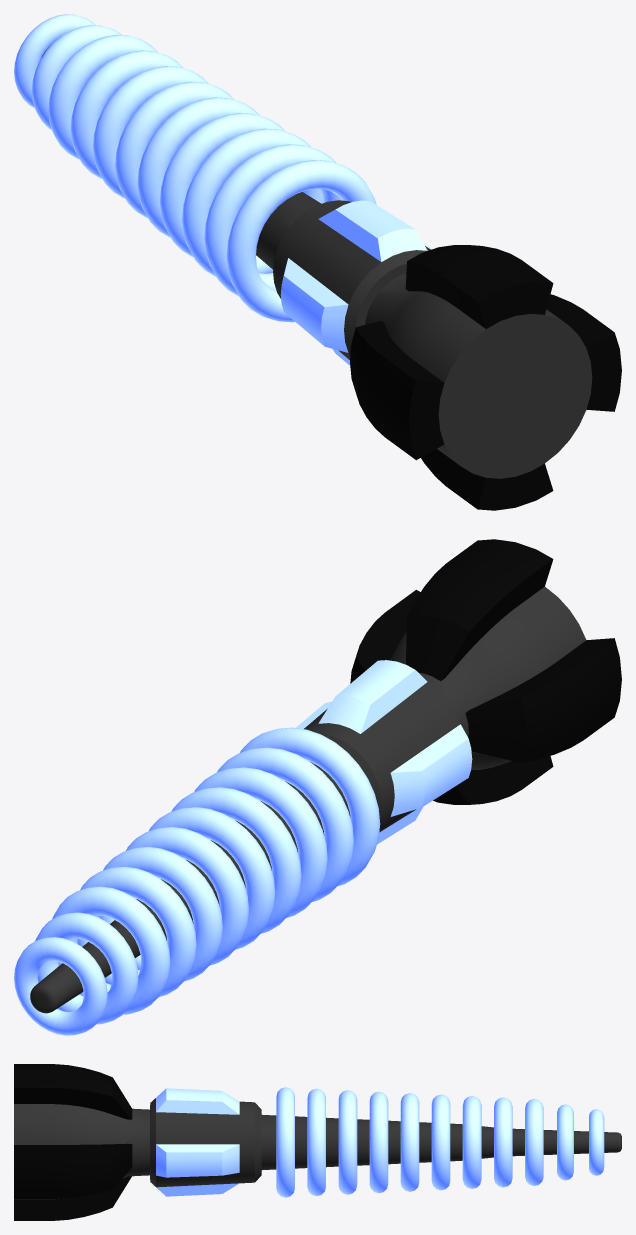
File: BeaconTower1.fbx
3 renders of one model, top to bottom at view 1: azimuth 30°, elevation 25°; view 2: azimuth 150°, elevation 25°; view 3: azimuth 270°, elevation 25°, orthographic. The views are drawn at different scales.
Visible parts, largest first — view 1: Cylinder, Cylinder.004, Cylinder.003, Cylinder.005, Cylinder_Curve.001, Cylinder_Curve.002, Cylinder_Curve.003, Cylinder_Curve.004, Cylinder_Curve.005, Cylinder_Curve.006, Cylinder_Curve.007, Cylinder_Curve.008 (+3 smaller); view 2: Cylinder, Cylinder.004, Cylinder.003, Cylinder.005, Cylinder_Curve.001, Cylinder_Curve.002, Cylinder_Curve.003, Cylinder_Curve.011, Cylinder_Curve.004, Cylinder_Curve.009, Cylinder_Curve.005, Cylinder_Curve.006 (+3 smaller); view 3: Cylinder, Cylinder.004, Cylinder.003, Cylinder.005, Cylinder_Curve.001, Cylinder_Curve.003, Cylinder_Curve.002, Cylinder_Curve.004, Cylinder_Curve.005, Cylinder_Curve.006, Cylinder_Curve.007, Cylinder_Curve.008 (+3 smaller).
Part boxes in pixels (bbox=[...]): Cylinder: bbox=[41, 46, 592, 478]; Cylinder.004: bbox=[405, 245, 553, 510]; Cylinder.003: bbox=[350, 294, 621, 460]; Cylinder.005: bbox=[280, 200, 432, 365]; Cylinder_Curve.001: bbox=[226, 160, 376, 322]; Cylinder_Curve.002: bbox=[204, 144, 342, 296]; Cylinder_Curve.003: bbox=[182, 128, 324, 276]; Cylinder_Curve.004: bbox=[159, 113, 285, 257]; Cylinder_Curve.005: bbox=[137, 97, 259, 237]; Cylinder_Curve.006: bbox=[115, 81, 234, 218]; Cylinder_Curve.007: bbox=[93, 66, 208, 198]; Cylinder_Curve.008: bbox=[70, 50, 182, 178]; Cylinder: bbox=[30, 586, 586, 1013]; Cylinder.004: bbox=[406, 539, 553, 804]; Cylinder.003: bbox=[350, 589, 621, 762]; Cylinder.005: bbox=[296, 660, 472, 844]; Cylinder_Curve.001: bbox=[240, 727, 380, 886]; Cylinder_Curve.002: bbox=[217, 747, 353, 901]; Cylinder_Curve.003: bbox=[194, 767, 327, 917]; Cylinder_Curve.011: bbox=[14, 937, 107, 1035]; Cylinder_Curve.004: bbox=[171, 787, 301, 933]; Cylinder_Curve.009: bbox=[52, 886, 170, 1014]; Cylinder_Curve.005: bbox=[149, 807, 275, 949]; Cylinder_Curve.006: bbox=[126, 827, 248, 965]; Cylinder: bbox=[14, 1098, 621, 1199]; Cylinder.004: bbox=[14, 1064, 132, 1220]; Cylinder.003: bbox=[14, 1143, 132, 1198]; Cylinder.005: bbox=[156, 1088, 239, 1196]; Cylinder_Curve.001: bbox=[276, 1087, 294, 1197]; Cylinder_Curve.003: bbox=[338, 1090, 357, 1194]; Cylinder_Curve.002: bbox=[307, 1088, 325, 1196]; Cylinder_Curve.004: bbox=[369, 1091, 388, 1193]; Cylinder_Curve.005: bbox=[400, 1093, 419, 1191]; Cylinder_Curve.006: bbox=[431, 1094, 450, 1190]; Cylinder_Curve.007: bbox=[462, 1096, 481, 1188]; Cylinder_Curve.008: bbox=[494, 1097, 512, 1187].
Size of the model in its own units: 277 by 277 by 1070.
